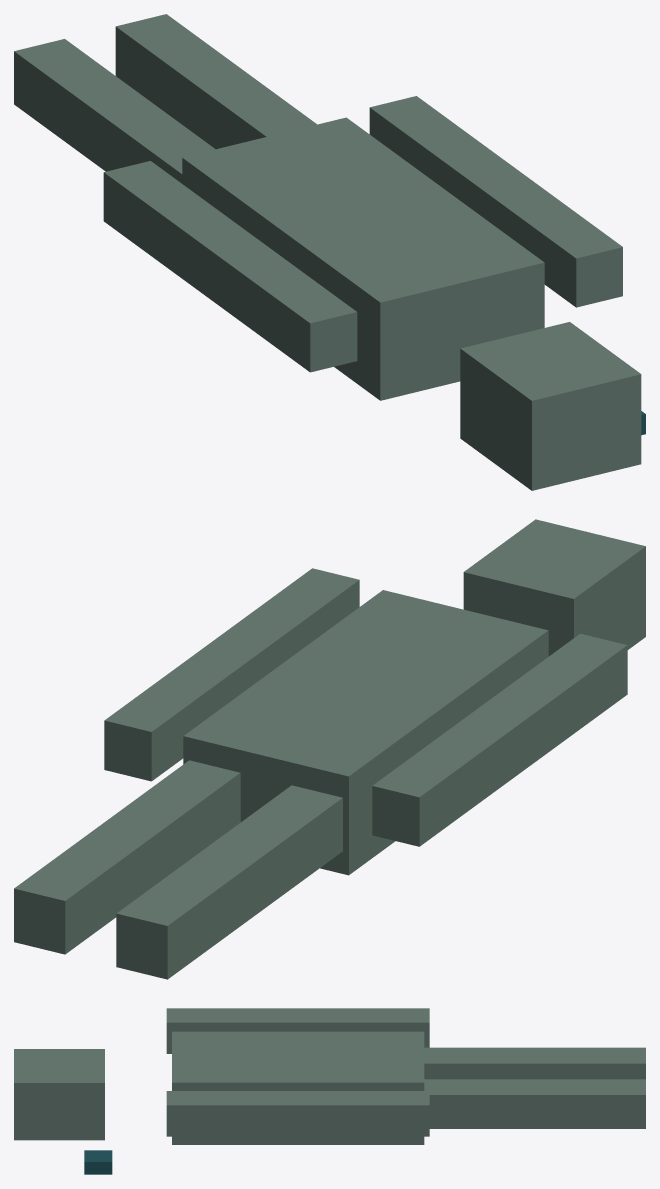
Rendered from enemy_lab_ultimate_proxy.obj.
3 views of the same model, one above another, from view 1: azimuth 30°, elevation 25°; view 2: azimuth 150°, elevation 25°; view 3: azimuth 270°, elevation 25° (orthographic). The views are drawn at different scales.
Visible parts, largest first — view 1: torso, head, arm_l, arm_r, leg_l, leg_r; view 2: torso, arm_l, leg_l, leg_r, arm_r, head; view 3: torso, arm_r, leg_r, head, leg_l, arm_l, sensor_patch.
Boxes of the visible parts, x1,y1,x2,y2 form: torso: [182, 117, 544, 400]; head: [460, 322, 641, 490]; arm_l: [103, 161, 357, 372]; arm_r: [369, 96, 622, 307]; leg_l: [14, 39, 215, 183]; leg_r: [115, 14, 316, 149]; torso: [183, 590, 548, 875]; arm_l: [372, 633, 627, 846]; leg_l: [116, 785, 342, 979]; leg_r: [14, 760, 240, 954]; arm_r: [104, 568, 359, 781]; head: [463, 519, 645, 656]; torso: [172, 1031, 424, 1144]; arm_r: [166, 1091, 429, 1136]; leg_r: [424, 1079, 645, 1128]; head: [14, 1049, 104, 1140]; leg_l: [424, 1047, 645, 1079]; arm_l: [166, 1008, 429, 1053]; sensor_patch: [84, 1150, 112, 1174].
Size of the model in its own units: 0.656 by 0.2592 by 1.8.
